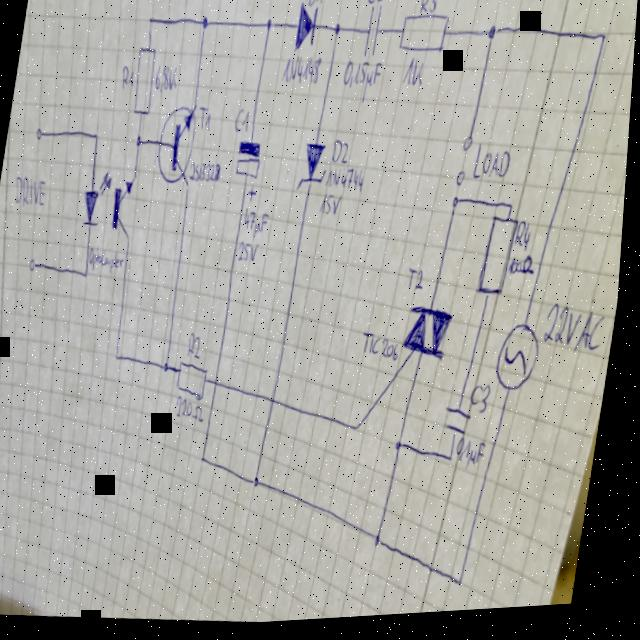capacitor: (231, 138, 267, 206), (361, 5, 383, 63), (445, 406, 477, 443)
crossover: (216, 379, 224, 389), (274, 397, 281, 408)
diode: (296, 142, 332, 196), (292, 1, 320, 57)
junction: (484, 27, 499, 47), (399, 437, 410, 457), (378, 535, 390, 553), (199, 15, 210, 33), (255, 474, 267, 490), (453, 197, 463, 215), (332, 23, 342, 40), (135, 132, 144, 148), (264, 18, 273, 34), (463, 579, 472, 594), (357, 424, 367, 436), (93, 129, 101, 142), (599, 36, 608, 47), (165, 362, 173, 374), (452, 457, 460, 467), (204, 455, 212, 465), (146, 16, 154, 26), (509, 205, 516, 216), (116, 350, 123, 361), (85, 269, 92, 278)
resistor: (477, 216, 522, 306), (397, 13, 451, 62), (128, 44, 160, 119), (177, 357, 214, 404)
source: (495, 323, 548, 399)
terminal: (454, 174, 467, 205), (462, 136, 476, 157), (34, 123, 46, 141), (30, 255, 40, 271)
text: (543, 303, 612, 364), (338, 59, 383, 109), (472, 143, 514, 188), (361, 331, 406, 368), (279, 53, 324, 90), (11, 170, 50, 209), (458, 438, 493, 477), (324, 167, 368, 197), (88, 244, 128, 276), (178, 393, 212, 427), (242, 206, 273, 243), (151, 62, 180, 97), (188, 159, 224, 186), (471, 385, 498, 420), (400, 57, 427, 92), (508, 257, 540, 282), (514, 223, 536, 258), (319, 192, 345, 220), (238, 240, 263, 267), (188, 330, 209, 362), (330, 140, 352, 169), (407, 268, 429, 296), (195, 105, 214, 135), (233, 107, 252, 135), (119, 62, 136, 91), (417, 0, 440, 19), (306, 0, 325, 11), (365, 0, 386, 7)
transistor: (153, 102, 201, 193)
